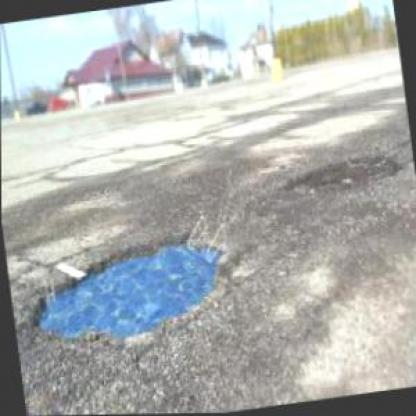pothole: (24, 226, 233, 348), (280, 148, 404, 200)
